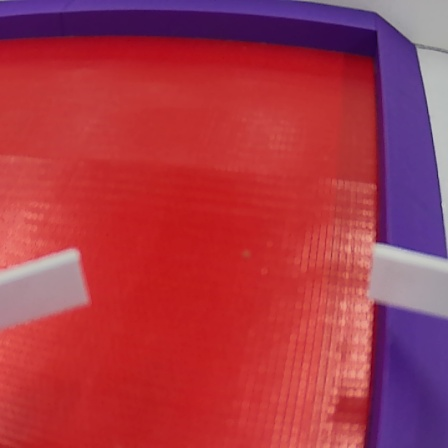red_aim: (1, 0, 447, 446)
